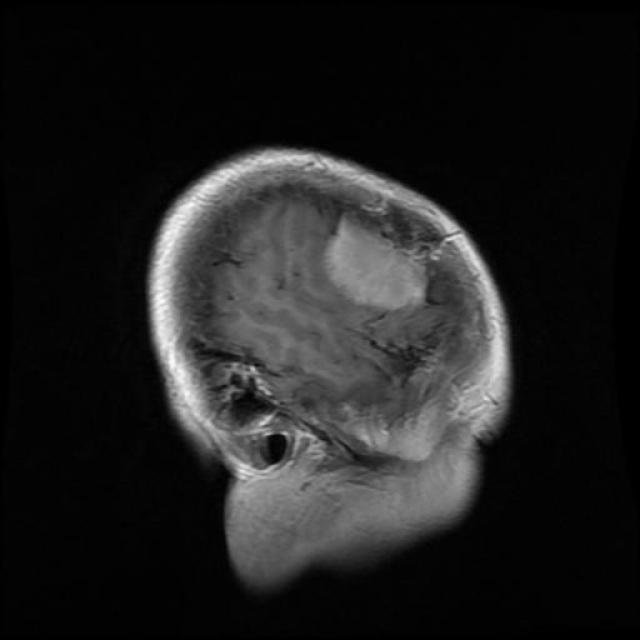Brain-Tumor: (316, 183, 447, 329)
